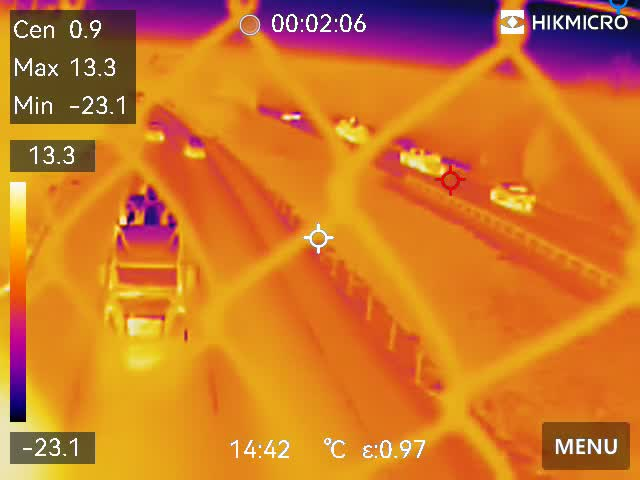heavyTruck: (96, 182, 205, 365)
vehicle: (489, 179, 542, 215), (390, 145, 446, 175), (330, 117, 371, 142), (181, 133, 213, 163), (143, 117, 168, 147), (278, 108, 305, 122)
